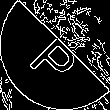P_NE: (25, 24, 85, 86)
